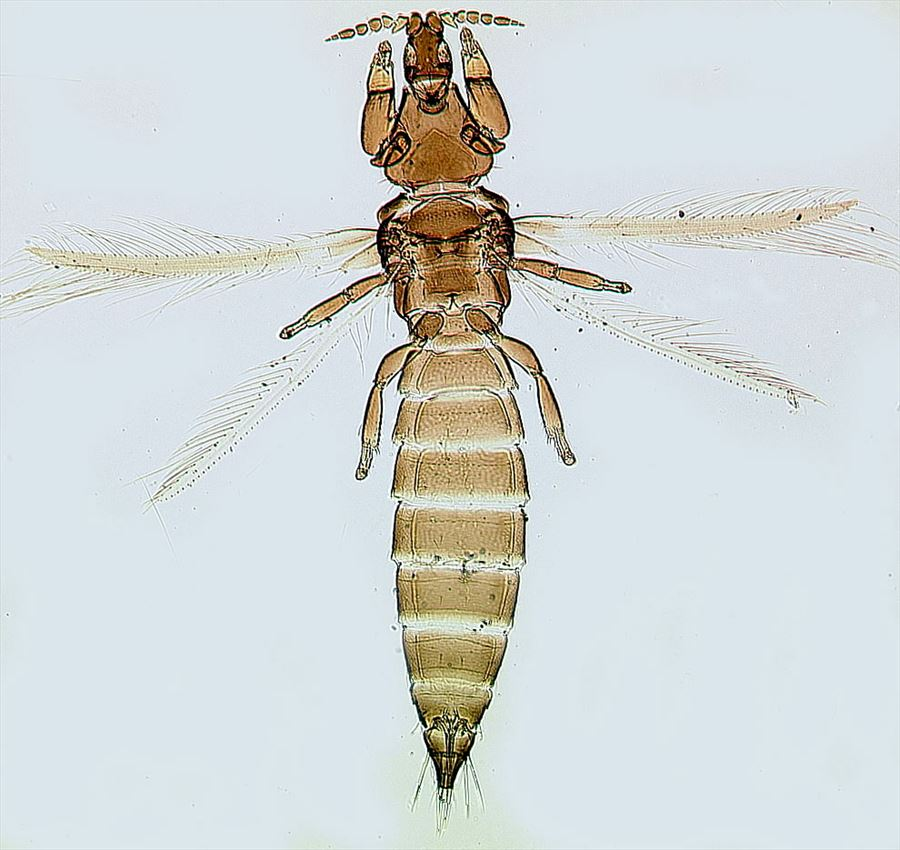Thripidae: (12, 5, 900, 824)
